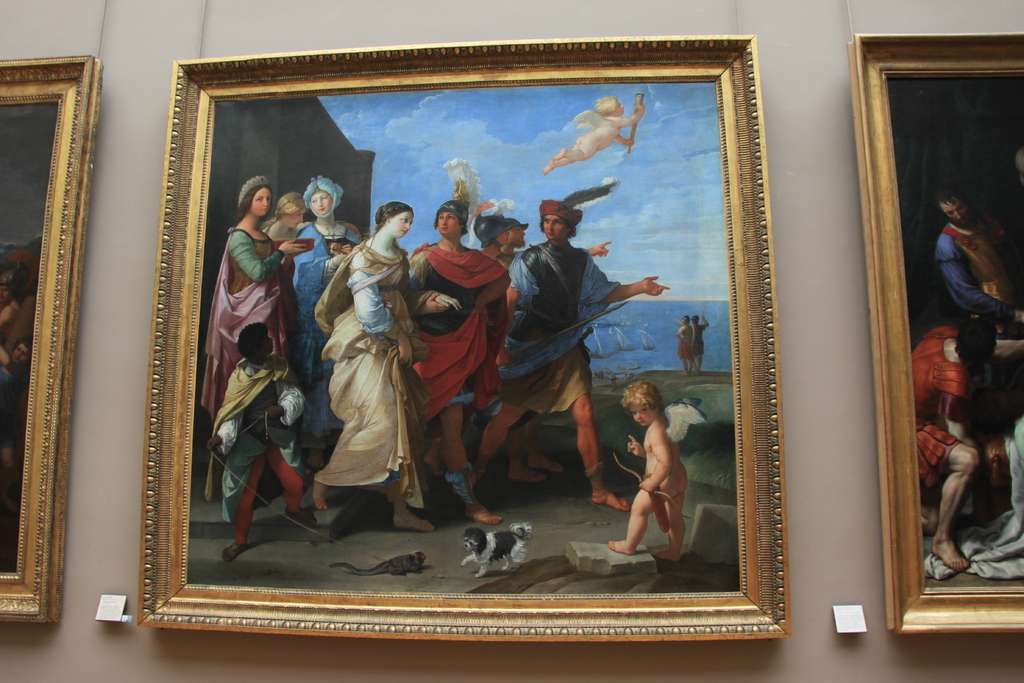Person: (201, 171, 672, 565), (908, 315, 1000, 572), (607, 379, 706, 561), (938, 185, 1024, 389), (541, 94, 646, 178), (0, 337, 32, 516), (0, 267, 24, 342), (673, 313, 695, 374), (692, 314, 709, 372)
